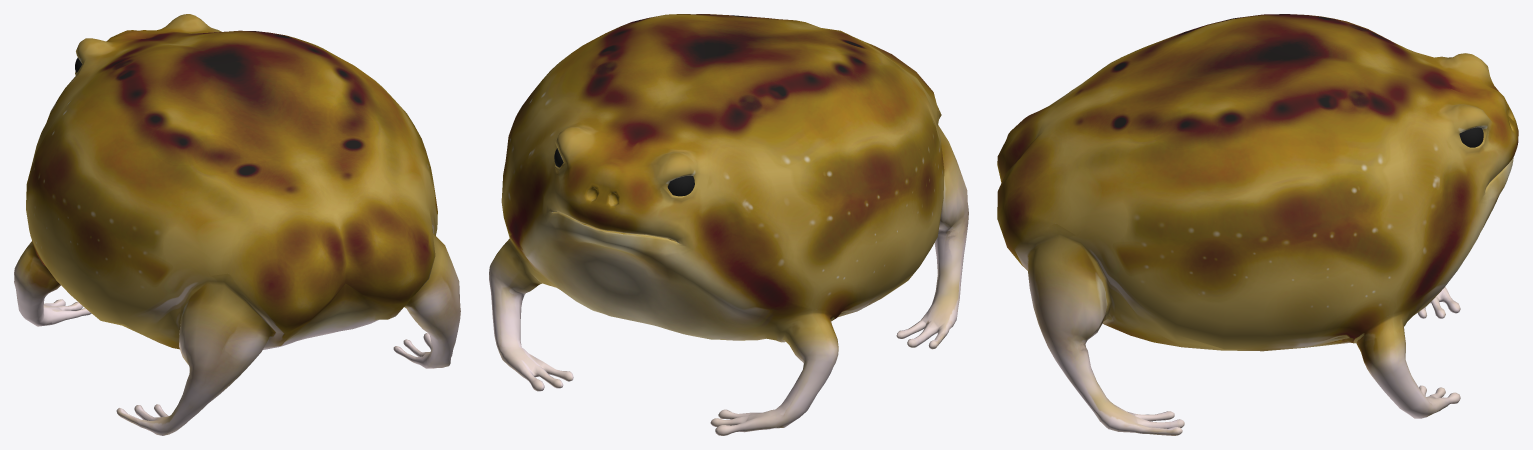
Rendered from RainFrog.fbx.
3 views of the same model, side by side, from view 1: azimuth 30°, elevation 25°; view 2: azimuth 150°, elevation 25°; view 3: azimuth 270°, elevation 25° (orthographic). The views are drawn at different scales.
Visible parts, largest first — view 1: RainFrog Game Body; view 2: RainFrog Game Body, RainFrog Game Eyes; view 3: RainFrog Game Body.
Part boxes in pixels (box(x1,y1,x2,y2)): RainFrog Game Body: box(14, 14, 460, 435); RainFrog Game Body: box(489, 14, 968, 435); RainFrog Game Eyes: box(554, 148, 694, 196); RainFrog Game Body: box(997, 14, 1518, 435).
Size of the model in its own units: 165 by 129 by 198.
